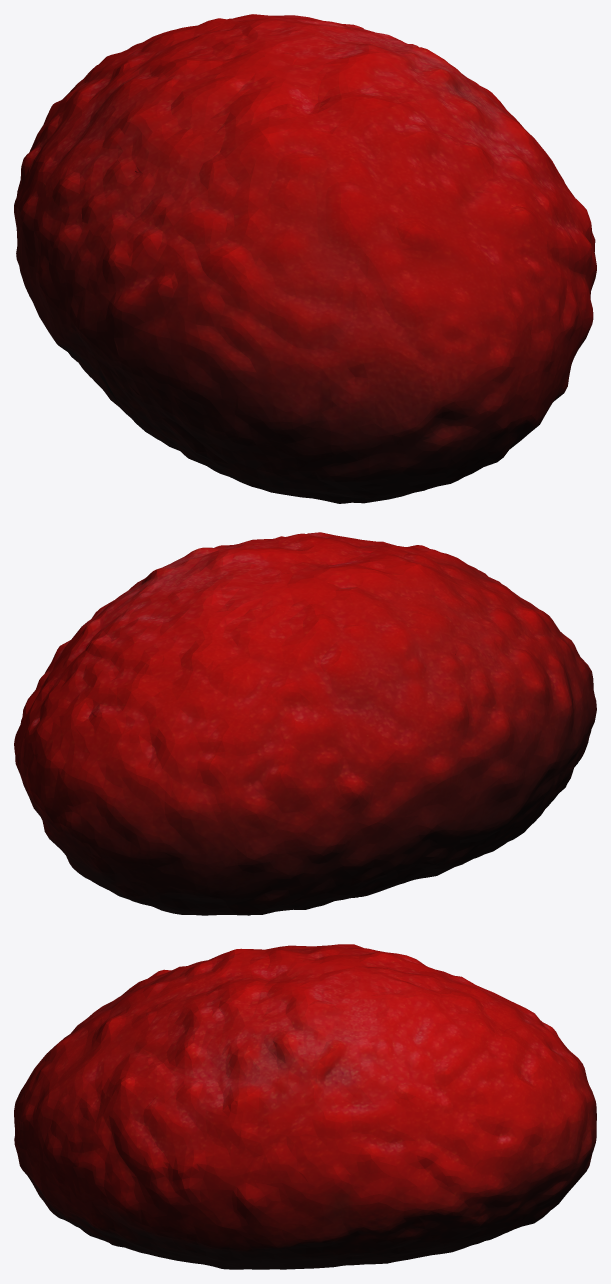
The model's file is sambal.glb.
The picture shows the model from 3 angles, top to bottom: view 1: azimuth 30°, elevation 25°; view 2: azimuth 150°, elevation 25°; view 3: azimuth 270°, elevation 25°; orthographic projection. The views are drawn at different scales.
Visible parts, largest first — view 1: world; view 2: world; view 3: world.
Boxes of the visible parts, box(x1,y1,x2,y2) form: world: box(14, 14, 596, 503); world: box(14, 532, 596, 915); world: box(14, 944, 596, 1269).
Bounding box in the file's own units: 0.7886 × 0.5236 × 0.9989.
Materials: 1 (1 with a texture image).
